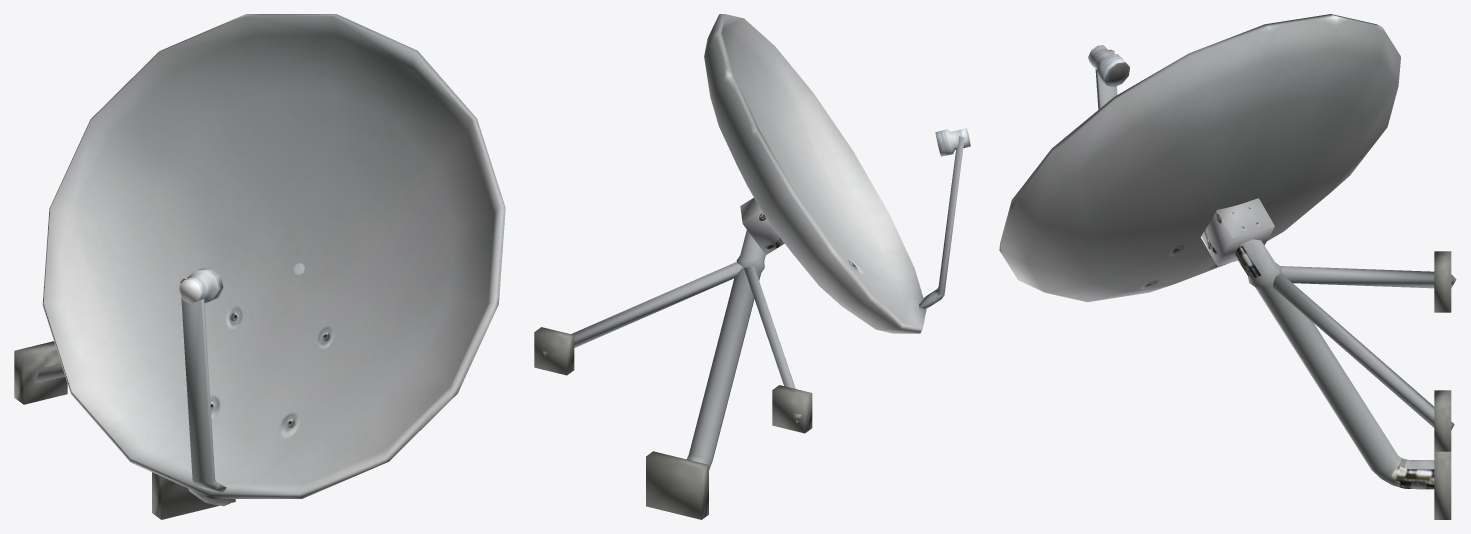
The model's file is satelite.fbx.
3 renders of one model, left to right at view 1: azimuth 30°, elevation 25°; view 2: azimuth 150°, elevation 25°; view 3: azimuth 270°, elevation 25°, orthographic. The views are drawn at different scales.
Parts seen in each view (by area): view 1: Regroup0; view 2: Regroup0; view 3: Regroup0.
Part boxes in pixels (<box>): Regroup0: <box>14,14,505,519</box>; Regroup0: <box>534,14,970,519</box>; Regroup0: <box>999,14,1456,519</box>.
Size of the model in its own units: 1.1 by 1.46 by 1.22.
